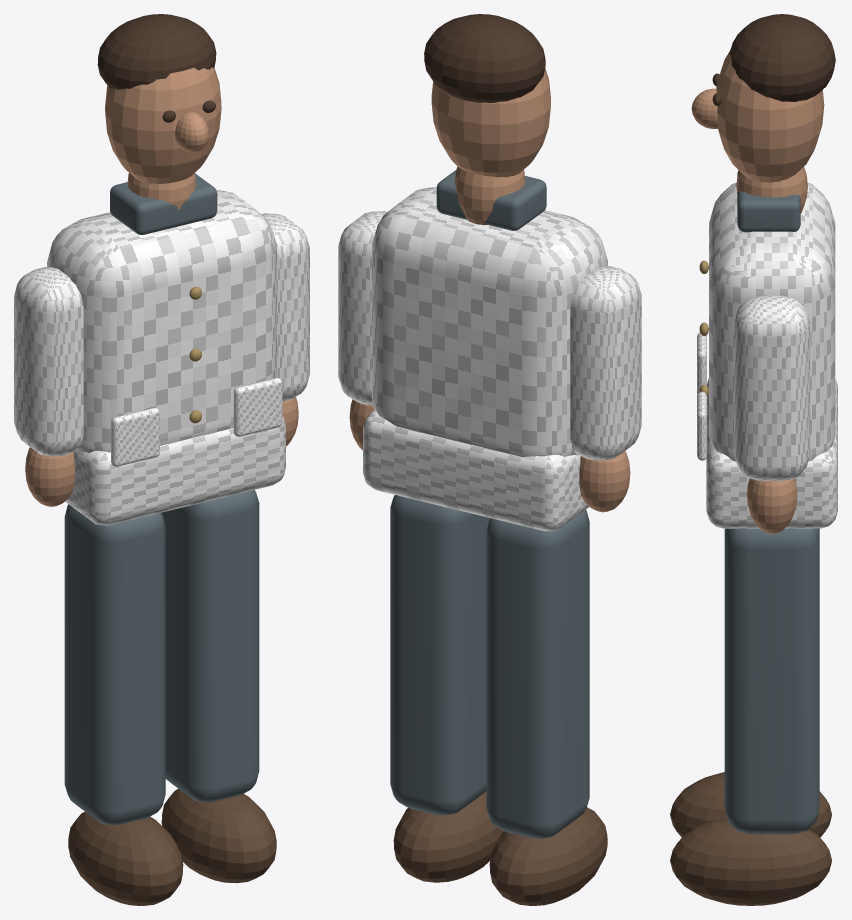
The model's file is villager-fieldworker.glb.
3 renders of one model, left to right at view 1: azimuth 30°, elevation 25°; view 2: azimuth 150°, elevation 25°; view 3: azimuth 270°, elevation 25°, orthographic. The views are drawn at different scales.
Parts seen in each view (by area): view 1: Coat torso, Trouser_L, Trouser_R, Coat hem, Sleeve_L, Head, Boot_L, Boot_R, Hair cap, Sleeve_R, Shirt collar, Patch pocket.001 (+4 smaller); view 2: Coat torso, Trouser_L, Trouser_R, Coat hem, Sleeve_L, Hair cap, Head, Boot_L, Boot_R, Sleeve_R, Shirt collar, Hand_L (+2 smaller); view 3: Trouser_R, Coat torso, Sleeve_R, Boot_R, Head, Hair cap, Coat hem, Boot_L, Shirt collar, Hand_R, Neck, Nose (+2 smaller).
Boxes of the visible parts, box(x1,y1,x2,y2) form: Coat torso: box(47, 190, 276, 452); Trouser_L: box(64, 504, 165, 825); Trouser_R: box(161, 490, 259, 802); Coat hem: box(65, 416, 285, 525); Sleeve_L: box(14, 267, 83, 456); Head: box(105, 67, 221, 183); Boot_L: box(68, 811, 183, 905); Boot_R: box(161, 789, 276, 883); Hair cap: box(97, 14, 216, 89); Sleeve_R: box(262, 213, 309, 401); Shirt collar: box(110, 173, 217, 234); Patch pocket.001: box(233, 378, 282, 436); Coat torso: box(372, 187, 607, 456); Trouser_L: box(486, 509, 589, 838); Trouser_R: box(390, 495, 490, 815); Coat hem: box(363, 410, 588, 531); Sleeve_L: box(570, 266, 641, 460); Hair cap: box(424, 14, 545, 102); Head: box(431, 68, 550, 177); Boot_L: box(489, 807, 607, 905); Boot_R: box(393, 791, 503, 882); Sleeve_R: box(338, 211, 387, 405); Shirt collar: box(436, 170, 546, 230); Hand_L: box(579, 451, 630, 512); Trouser_R: box(724, 528, 819, 834); Coat torso: box(709, 183, 835, 461); Sleeve_R: box(734, 295, 810, 481); Boot_R: box(670, 817, 831, 905); Head: box(716, 50, 824, 182); Hair cap: box(729, 14, 835, 101); Coat hem: box(706, 378, 837, 528); Boot_L: box(670, 772, 831, 837); Shirt collar: box(737, 170, 800, 232); Hand_R: box(747, 478, 797, 533); Neck: box(736, 167, 807, 213); Nose: box(691, 88, 717, 128).
Bounding box in the file's own units: 0.612 × 1.79 × 0.319.
Materials: 6 (1 with a texture image).
